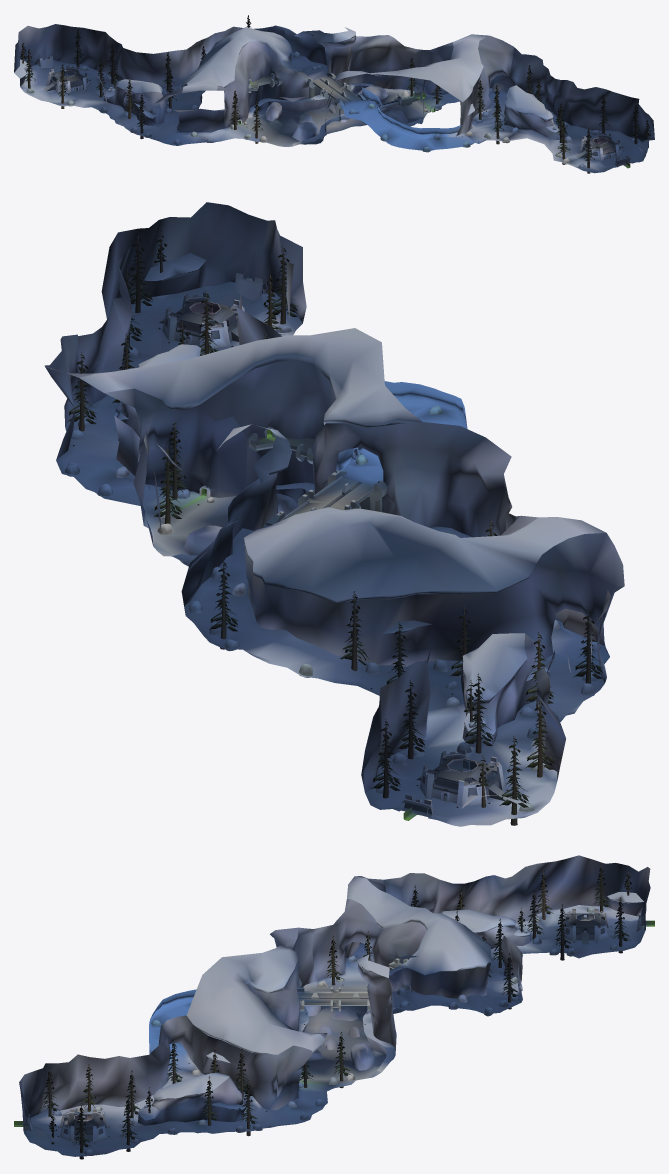
Rendered from ICE.glb.
3 renders of one model, top to bottom at view 1: azimuth 30°, elevation 25°; view 2: azimuth 150°, elevation 25°; view 3: azimuth 270°, elevation 25°, orthographic. The views are drawn at different scales.
Parts seen in each view (by area): view 1: ICE; view 2: ICE; view 3: ICE.
Part boxes in pixels (box(x1,y1,x2,y2)): ICE: box(14, 15, 654, 173); ICE: box(44, 202, 624, 826); ICE: box(14, 855, 654, 1159).
Bounding box in the file's own units: 394 × 69.63 × 423.
